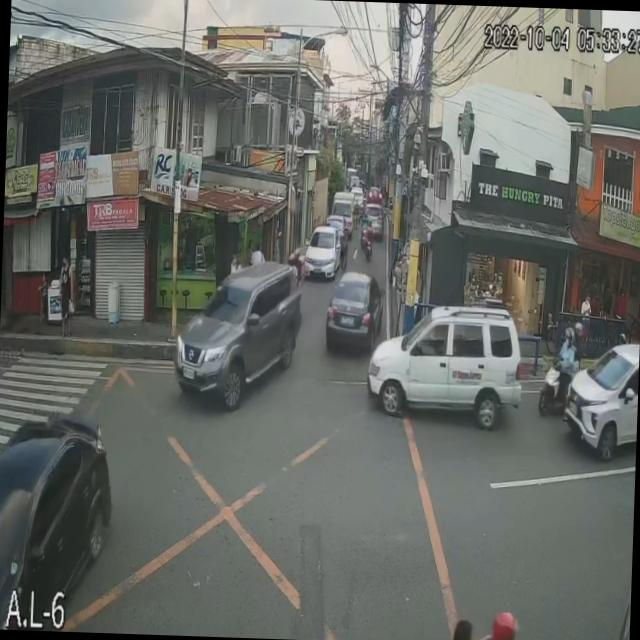half: (564, 325, 574, 348), (573, 320, 583, 340)
